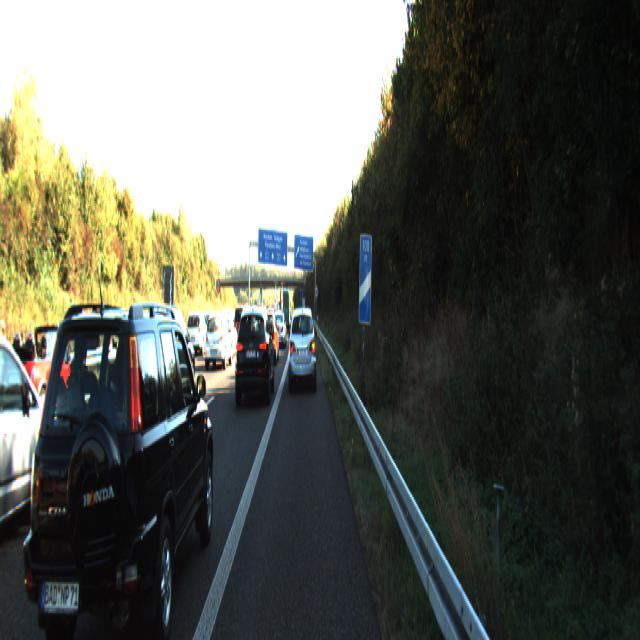Car: (16, 303, 217, 638), (0, 318, 67, 558), (0, 320, 86, 439), (136, 302, 195, 416), (234, 303, 276, 407), (119, 312, 164, 384), (288, 304, 316, 391), (204, 310, 232, 369), (257, 310, 280, 366), (186, 308, 211, 356), (271, 310, 287, 347)
